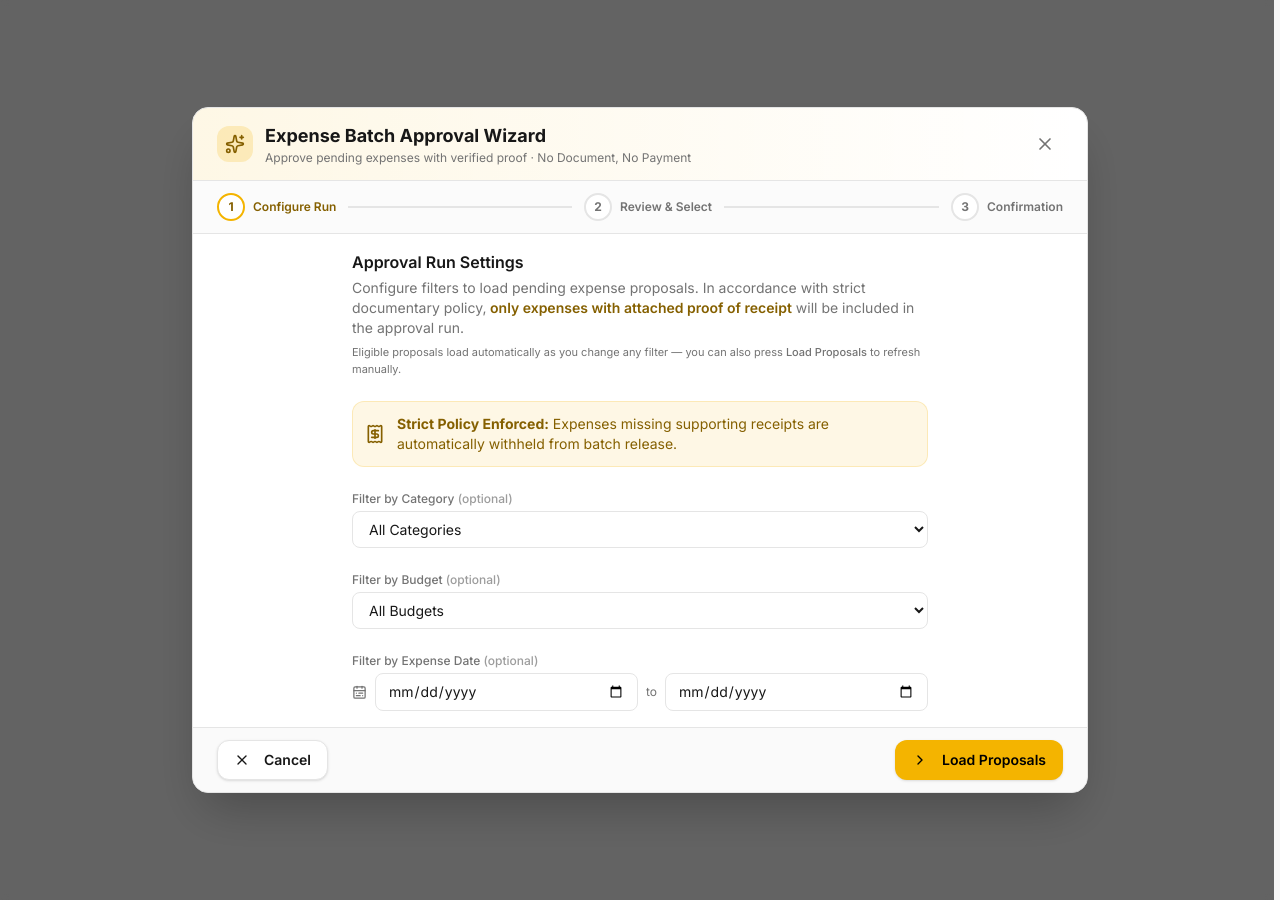
BatchApproveExpensesModal proposal loading › reloads instead of showing stale results when the filter changes mid-flight
This screenshot has width=1280, height=900.
Click the button "Load Proposals".
click(979, 760)  # box [895, 740, 1063, 780]
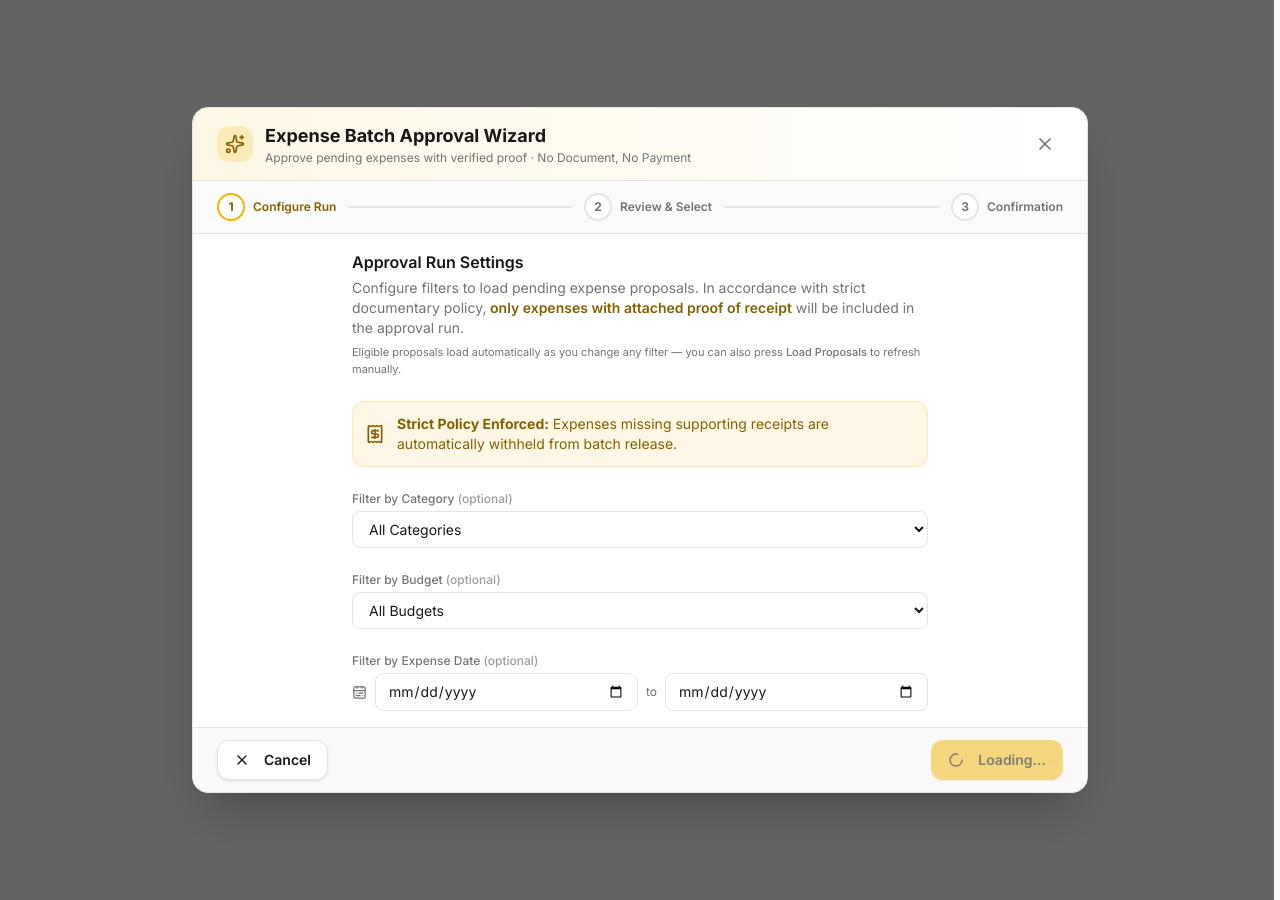
Select "Subcontractors" in the dropdown below "Filter by Category" at x=640, y=530, box [352, 511, 928, 548]
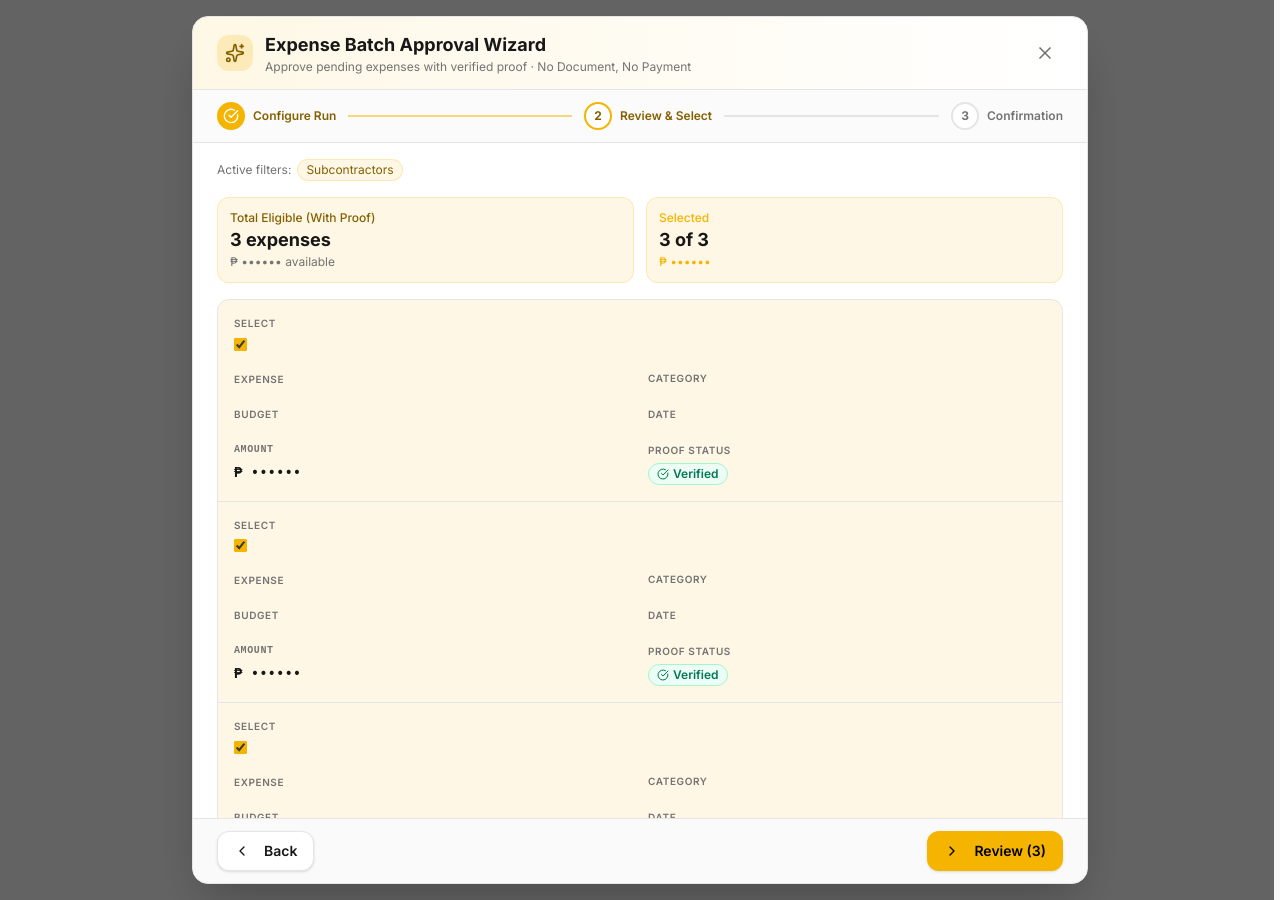
Check: the text "3 expenses" is shown, box [230, 229, 331, 250]
